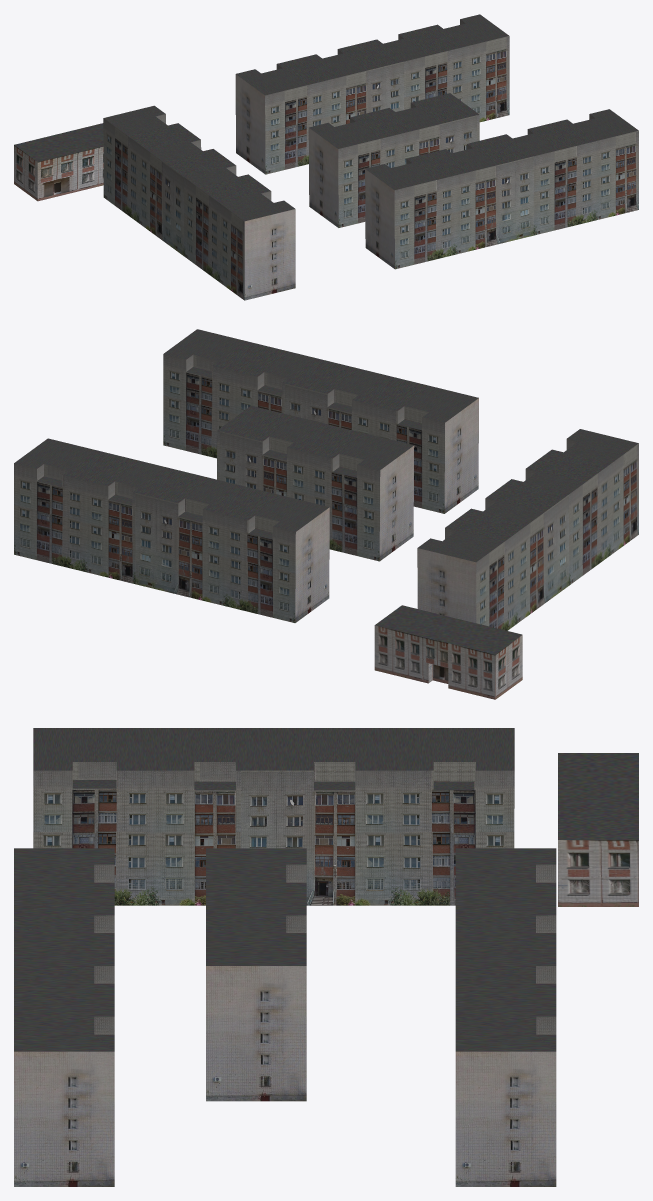
Rendered from area5.FBX.
3 renders of one model, top to bottom at view 1: azimuth 30°, elevation 25°; view 2: azimuth 150°, elevation 25°; view 3: azimuth 270°, elevation 25°, orthographic. The views are drawn at different scales.
Parts seen in each view (by area): view 1: House007, House009, House5, House008, House6; view 2: House009, House5, House007, House008, House6; view 3: House5, House009, House007, House008, House6.
Boxes of the visible parts, <box> form: House007: <box>365,109,638,269</box>; House009: <box>235,14,509,174</box>; House5: <box>103,105,295,300</box>; House008: <box>308,93,479,227</box>; House6: <box>14,123,103,201</box>; House009: <box>14,438,329,622</box>; House5: <box>417,429,638,630</box>; House007: <box>163,329,478,513</box>; House008: <box>217,405,414,561</box>; House6: <box>374,605,522,699</box>; House5: <box>33,728,514,905</box>; House009: <box>455,848,556,1186</box>; House007: <box>14,848,114,1186</box>; House008: <box>206,848,306,1101</box>; House6: <box>558,753,638,906</box>.
Bounding box in the file's own units: 14744 × 2541 × 10589.
